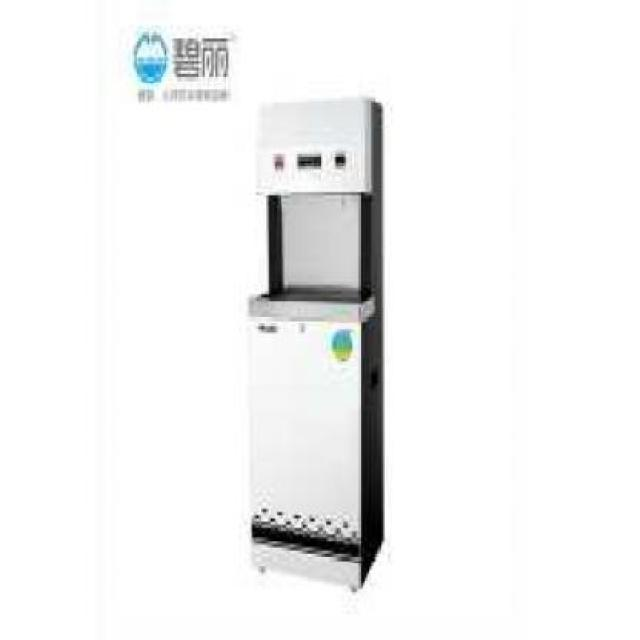cooler: (246, 83, 388, 602)
